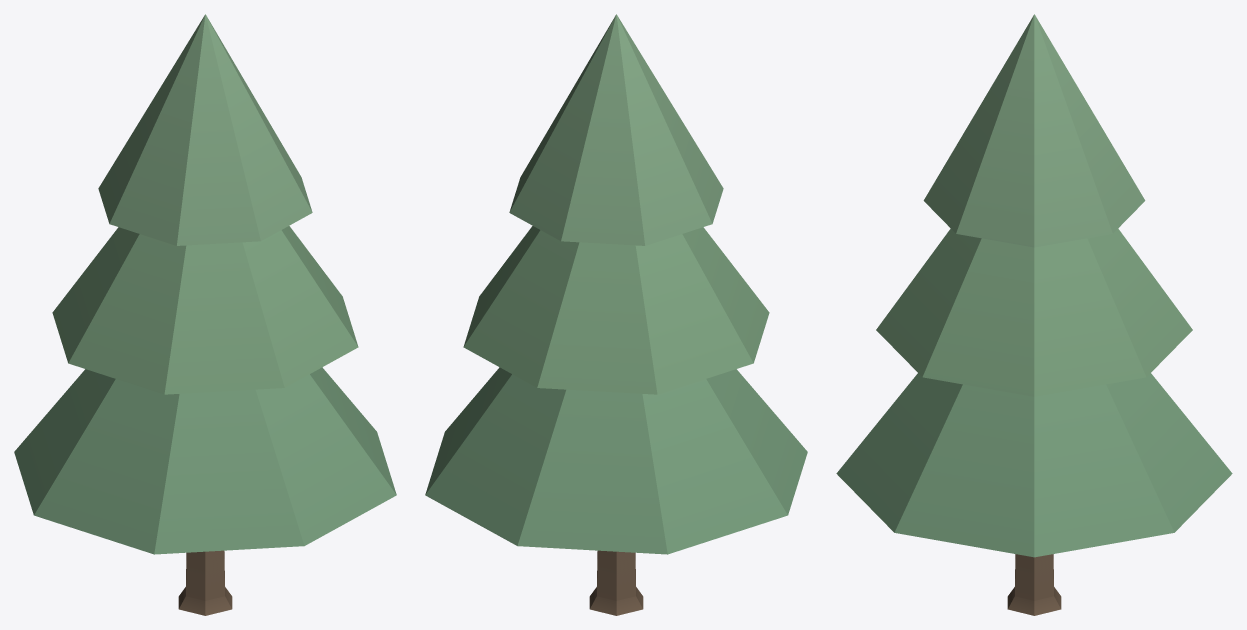
Rendered from tree_pine.glb.
3 renders of one model, left to right at view 1: azimuth 30°, elevation 25°; view 2: azimuth 150°, elevation 25°; view 3: azimuth 270°, elevation 25°, orthographic.
Visible parts, largest first — view 1: tree_pine; view 2: tree_pine; view 3: tree_pine.
Part boxes in pixels (x1,y1,x2,y2): tree_pine: (14,14,396,615); tree_pine: (425,14,807,615); tree_pine: (836,14,1232,615).
Bounding box in the file's own units: 2.5 × 4.1 × 2.5.
